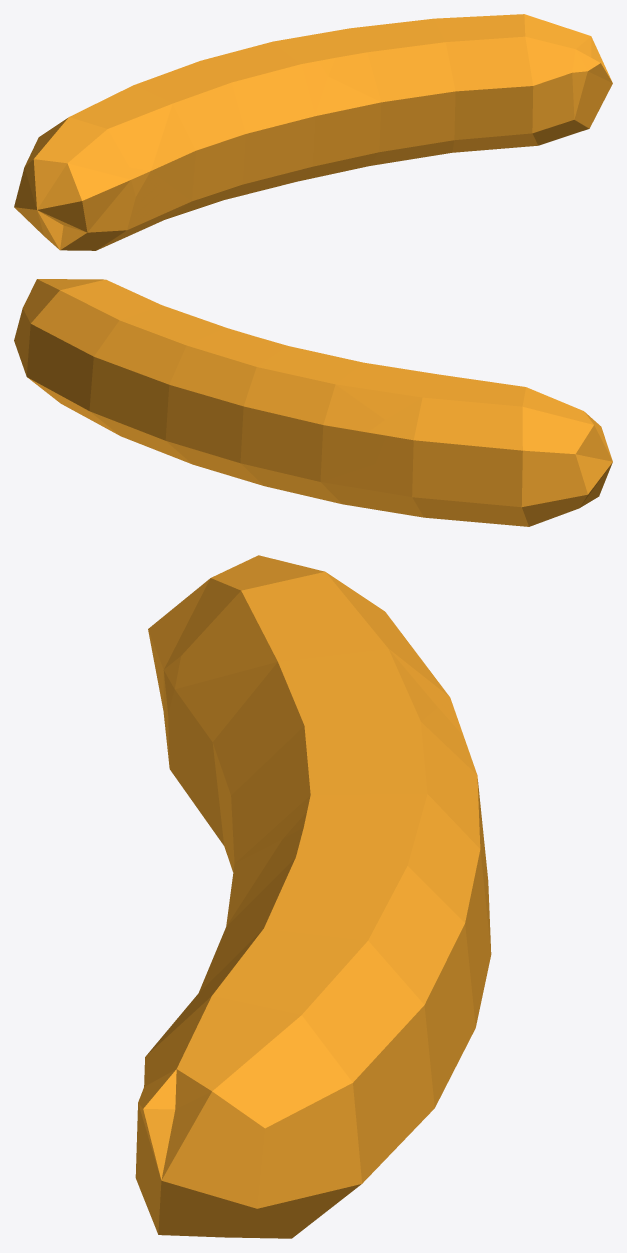
The model's file is SM_Meat_Sausage_Raw.fbx.
3 renders of one model, top to bottom at view 1: azimuth 30°, elevation 25°; view 2: azimuth 150°, elevation 25°; view 3: azimuth 270°, elevation 25°, orthographic. The views are drawn at different scales.
Visible parts, largest first — view 1: meat-sausage-raw; view 2: meat-sausage-raw; view 3: meat-sausage-raw.
Boxes of the visible parts, x1,y1,x2,y2 form: meat-sausage-raw: [14, 14, 612, 250]; meat-sausage-raw: [14, 279, 612, 526]; meat-sausage-raw: [135, 555, 491, 1238].
Bounding box in the file's own units: 0.2427 × 0.0488 × 0.0662.
